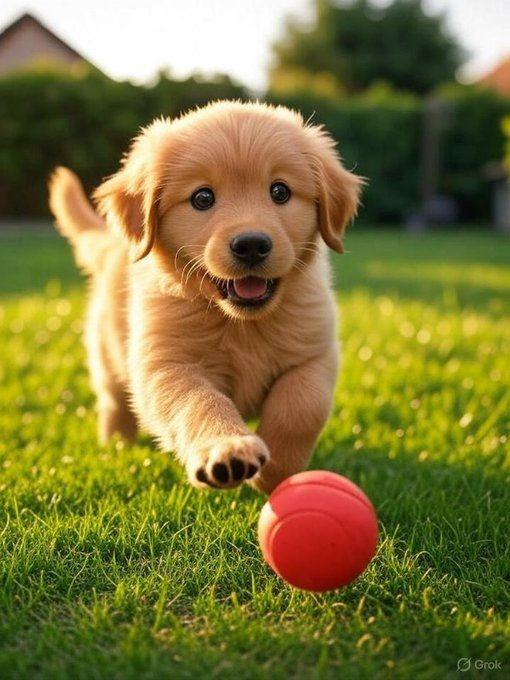non-dog: (255, 469, 380, 594)
puppy-dog: (46, 98, 367, 497)
